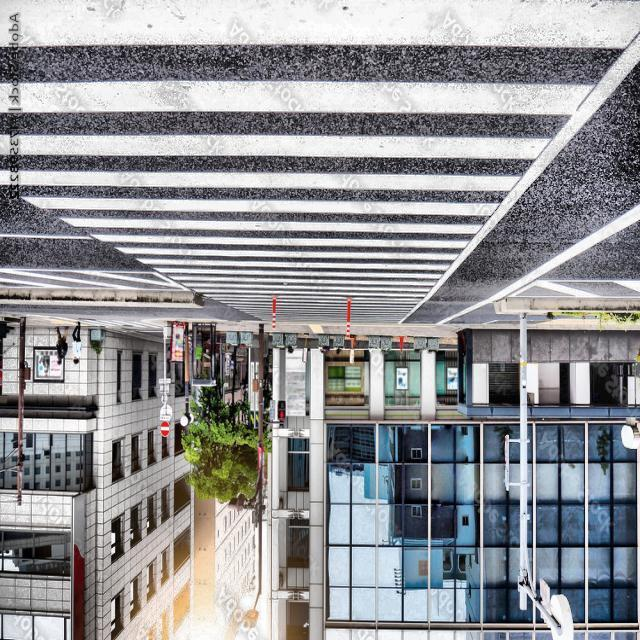crosswalk: (3, 0, 640, 329)
